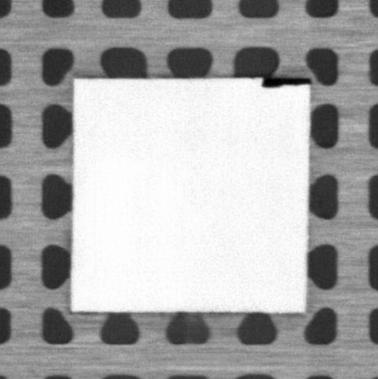DIE_BROKEN: (260, 74, 314, 89)
